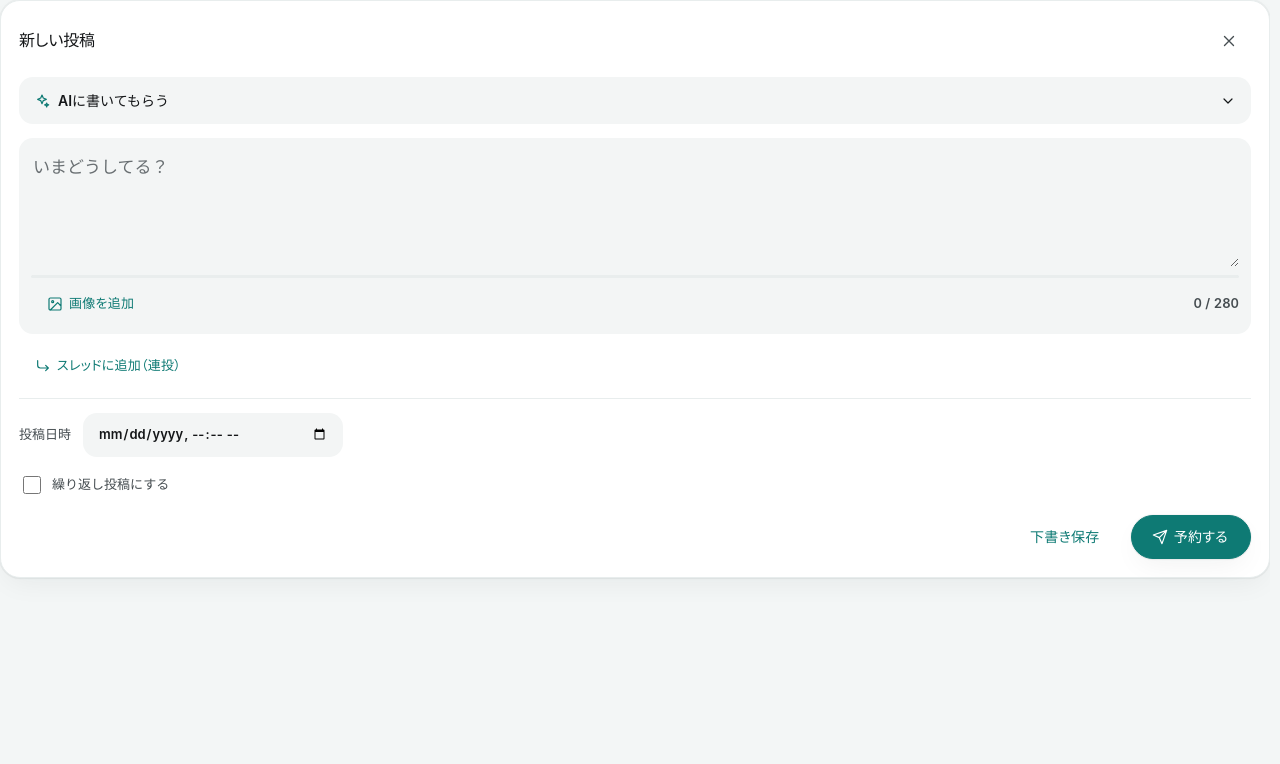
Test: PostComposer › 本文欄とAI下書き支援が同じ画面に並ぶ
expect the text box with placeholder "いまどうしてる？" is shown: met, box [31, 150, 1239, 267]
// 折りたたみを開くと、生成の入力欄が同じ画面に出る（別画面へ遷移しない）。
Click the button "AIに書いてもらう": [113, 100] box [20, 78, 1250, 123]
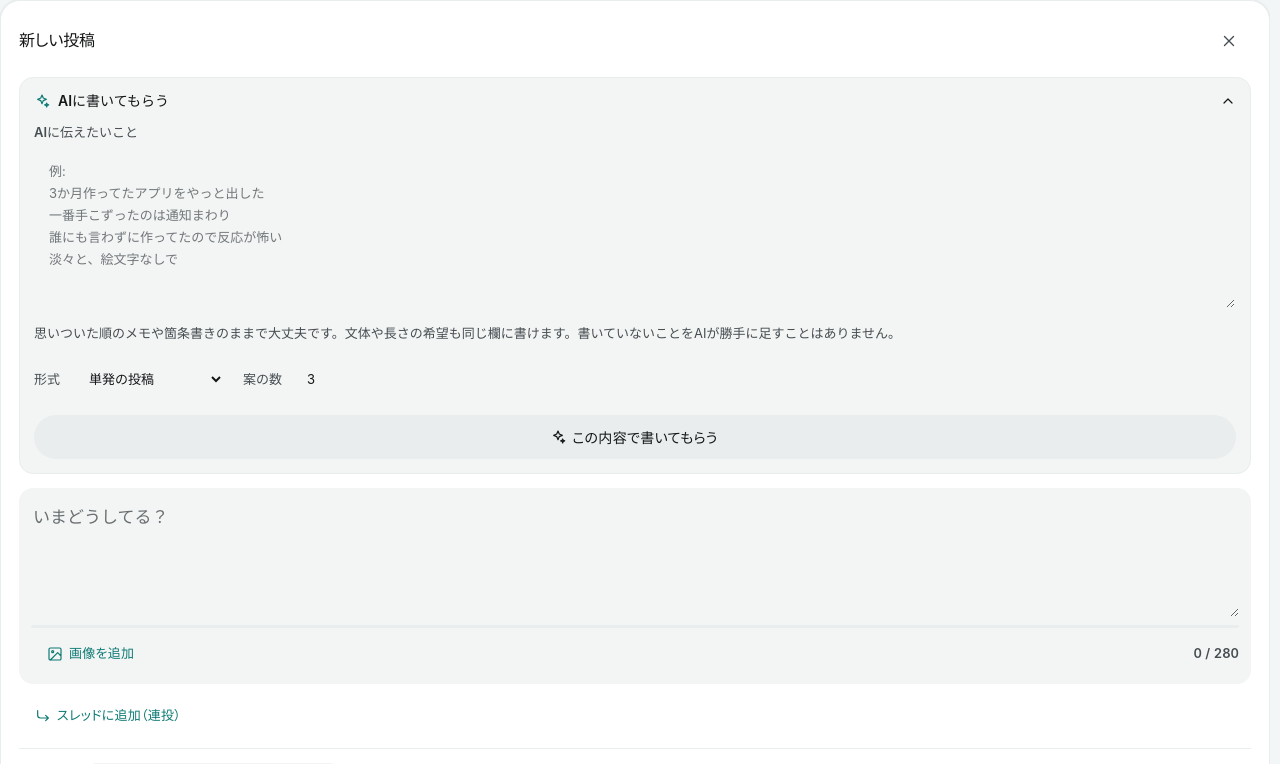
expect the text box with placeholder "いまどうしてる？" is shown: met, box [31, 500, 1239, 617]
expect the text "AIに伝えたいこと" is shown: met, box [34, 124, 138, 140]
expect the button "この内容で書いてもらう" is shown: met, box [34, 415, 1236, 459]
